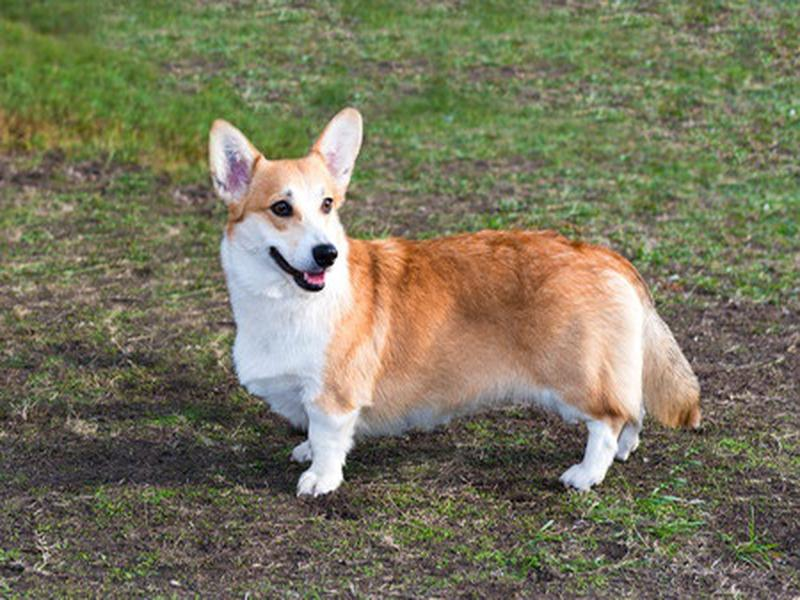corgi: (205, 104, 367, 294)
